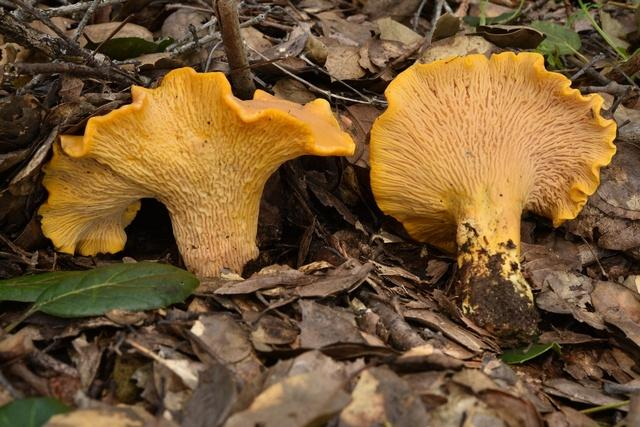Edible Mushroom: (367, 48, 618, 344), (37, 65, 356, 279)
